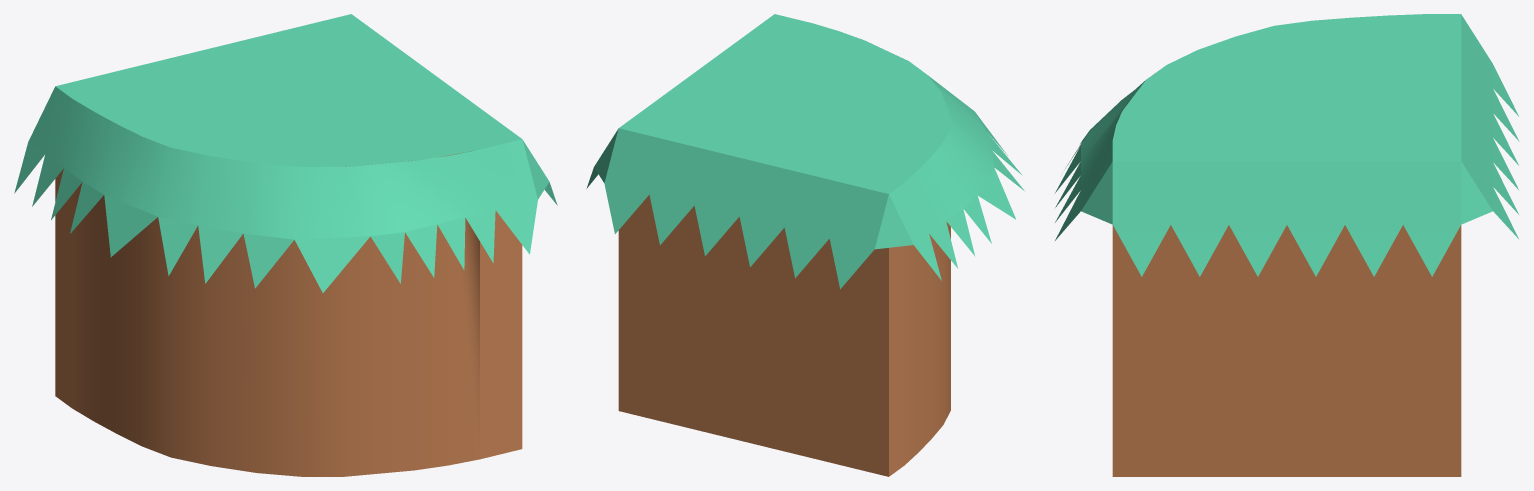
Rendered from Tile_Corner.fbx.
3 renders of one model, left to right at view 1: azimuth 30°, elevation 25°; view 2: azimuth 150°, elevation 25°; view 3: azimuth 270°, elevation 25°, orthographic. The views are drawn at different scales.
Parts seen in each view (by area): view 1: blockCornerSmall; view 2: blockCornerSmall; view 3: blockCornerSmall.
Part boxes in pixels (<box>): blockCornerSmall: <box>14,14,557,476</box>; blockCornerSmall: <box>586,14,1024,476</box>; blockCornerSmall: <box>1055,14,1519,476</box>.
Size of the model in its own units: 52.58 by 52.58 by 39.37.
